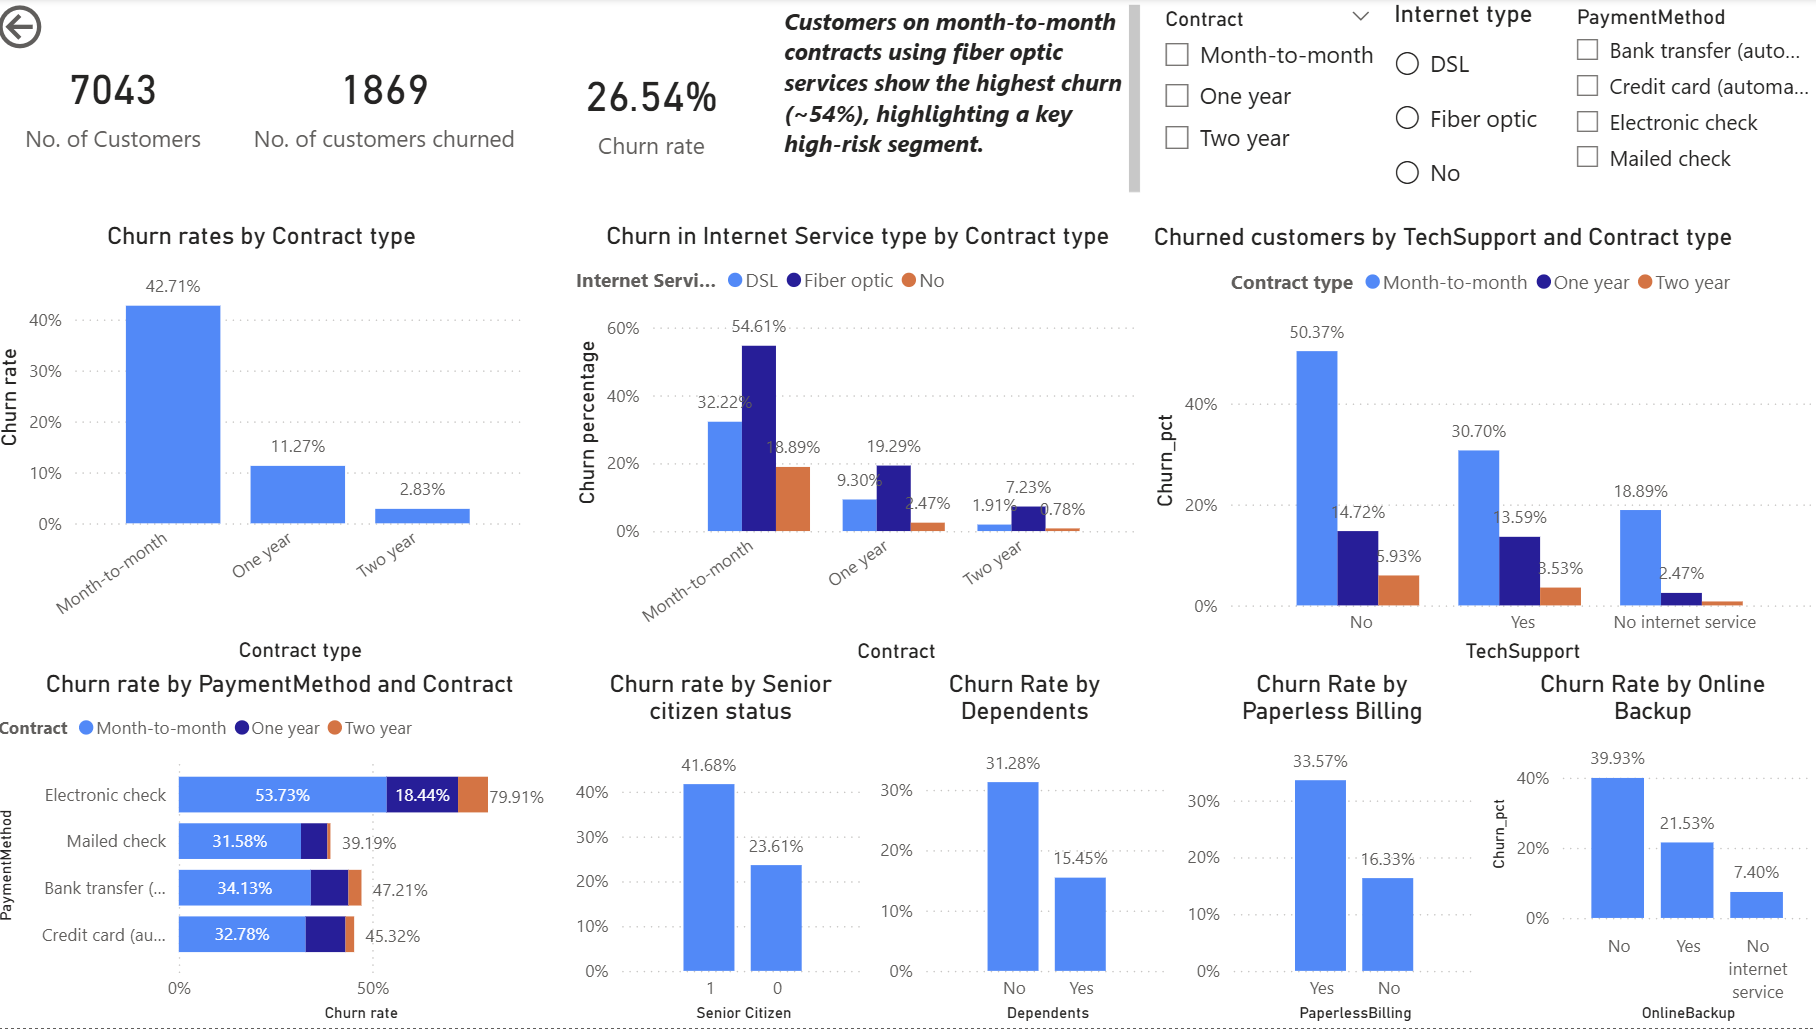

The dashboard page shown, as its layout file describes it:
{"tool":"powerbi","page":{"name":"Page 1","canvas":[1280,720],"ordinal":0},"visuals":[{"type":"card","fields":{"Values":["Count(WA_Fn-UseC_-Telco-Customer-Churn-UTF8.customerID)"]},"box":[0,0,171,146.7],"z":0},{"type":"actionButton","box":[0,0,100,40],"z":1000},{"type":"card","fields":{"Values":["WA_Fn-UseC_-Telco-Customer-Churn-UTF8.Churn_pct"]},"box":[378.4,0,167.4,156.4],"z":2000},{"type":"columnChart","title":"Churn rates by Contract type","fields":{"Y":["WA_Fn-UseC_-Telco-Customer-Churn-UTF8.Churn_pct"],"Category":["WA_Fn-UseC_-Telco-Customer-Churn-UTF8.Contract"]},"box":[0,156.4,378.4,312.9],"z":3000},{"type":"clusteredColumnChart","title":"Churn in Internet Service type by Contract type","fields":{"Y":["WA_Fn-UseC_-Telco-Customer-Churn-UTF8.Churn_pct"],"Series":["WA_Fn-UseC_-Telco-Customer-Churn-UTF8.InternetService"],"Category":["WA_Fn-UseC_-Telco-Customer-Churn-UTF8.Contract"]},"box":[403.8,156.4,403.8,312.9],"z":4000},{"type":"barChart","title":"Churn rate by PaymentMethod and Contract","fields":{"Category":["WA_Fn-UseC_-Telco-Customer-Churn-UTF8.PaymentMethod"],"Series":["WA_Fn-UseC_-Telco-Customer-Churn-UTF8.Contract"],"Y":["WA_Fn-UseC_-Telco-Customer-Churn-UTF8.Churn_pct"]},"box":[0,469.3,403.8,251],"z":5000},{"type":"clusteredColumnChart","title":"Churned customers by TechSupport and Contract type","fields":{"Category":["WA_Fn-UseC_-Telco-Customer-Churn-UTF8.TechSupport"],"Series":["WA_Fn-UseC_-Telco-Customer-Churn-UTF8.Contract"],"Y":["WA_Fn-UseC_-Telco-Customer-Churn-UTF8.Churn_pct"]},"box":[807.7,157.7,471.8,311.7],"z":6000},{"type":"clusteredColumnChart","title":"Churn rate by Senior citizen status","fields":{"Category":["WA_Fn-UseC_-Telco-Customer-Churn-UTF8.SeniorCitizen"],"Y":["WA_Fn-UseC_-Telco-Customer-Churn-UTF8.Churn_pct"]},"box":[403.8,469.3,212.2,251],"z":7000},{"type":"clusteredColumnChart","title":"Churn Rate by Dependents","fields":{"Category":["WA_Fn-UseC_-Telco-Customer-Churn-UTF8.Dependents"],"Y":["WA_Fn-UseC_-Telco-Customer-Churn-UTF8.Churn_pct"]},"box":[616.1,469.3,212.2,251],"z":8000},{"type":"clusteredColumnChart","title":"Churn Rate by Paperless Billing","fields":{"Y":["WA_Fn-UseC_-Telco-Customer-Churn-UTF8.Churn_pct"],"Category":["WA_Fn-UseC_-Telco-Customer-Churn-UTF8.PaperlessBilling"]},"box":[831.9,469.3,212.2,251],"z":9000},{"type":"clusteredColumnChart","title":"Churn Rate by Online Backup","fields":{"Y":["WA_Fn-UseC_-Telco-Customer-Churn-UTF8.Churn_pct"],"Category":["WA_Fn-UseC_-Telco-Customer-Churn-UTF8.OnlineBackup"]},"box":[1044.2,469.3,235.3,251],"z":10000},{"type":"slicer","fields":{"Values":["WA_Fn-UseC_-Telco-Customer-Churn-UTF8.Contract"]},"box":[807.7,1.2,168.6,133.4],"z":11000},{"type":"listSlicer","fields":{"Values":["WA_Fn-UseC_-Telco-Customer-Churn-UTF8.InternetService"]},"box":[976.3,1.2,118.8,146.7],"z":12000},{"type":"slicer","fields":{"Values":["WA_Fn-UseC_-Telco-Customer-Churn-UTF8.PaymentMethod"]},"box":[1095.1,0,184.3,157.7],"z":13000},{"type":"textbox","box":[549.4,0,258.3,146.7],"z":14000},{"type":"card","fields":{"Values":["Sum(WA_Fn-UseC_-Telco-Customer-Churn-UTF8.Churn_flag)"]},"box":[171,0,207.4,146.7],"z":15000}]}

Visuals, with their boxes in screenshot pixels (x1, y1, x2, y2), scaled from the page's 1280x720 canvas onto the 1816x1029 screenshot:
card - Count(WA_Fn-UseC_-Telco-Customer-Churn-UTF8.customerID): bbox=[0, 0, 243, 210]
actionButton: bbox=[0, 0, 142, 57]
card - WA_Fn-UseC_-Telco-Customer-Churn-UTF8.Churn_pct: bbox=[537, 0, 774, 224]
"Churn rates by Contract type" columnChart: bbox=[0, 224, 537, 671]
"Churn in Internet Service type by Contract type" clusteredColumnChart: bbox=[573, 224, 1146, 671]
"Churn rate by PaymentMethod and Contract" barChart: bbox=[0, 671, 573, 1028]
"Churned customers by TechSupport and Contract type" clusteredColumnChart: bbox=[1146, 225, 1815, 671]
"Churn rate by Senior citizen status" clusteredColumnChart: bbox=[573, 671, 874, 1028]
"Churn Rate by Dependents" clusteredColumnChart: bbox=[874, 671, 1175, 1028]
"Churn Rate by Paperless Billing" clusteredColumnChart: bbox=[1180, 671, 1481, 1028]
"Churn Rate by Online Backup" clusteredColumnChart: bbox=[1481, 671, 1815, 1028]
slicer - WA_Fn-UseC_-Telco-Customer-Churn-UTF8.Contract: bbox=[1146, 2, 1385, 192]
listSlicer - WA_Fn-UseC_-Telco-Customer-Churn-UTF8.InternetService: bbox=[1385, 2, 1554, 211]
slicer - WA_Fn-UseC_-Telco-Customer-Churn-UTF8.PaymentMethod: bbox=[1554, 0, 1815, 225]
textbox: bbox=[779, 0, 1146, 210]
card - Sum(WA_Fn-UseC_-Telco-Customer-Churn-UTF8.Churn_flag): bbox=[243, 0, 537, 210]
